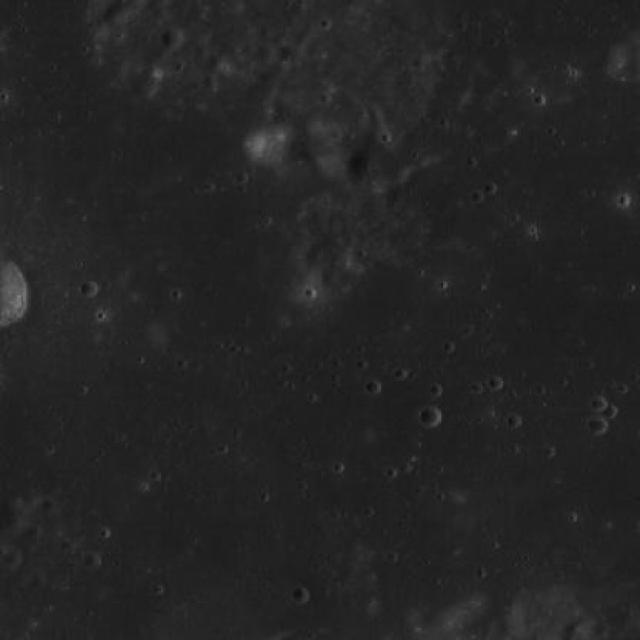crater: (348, 146, 396, 192), (130, 68, 161, 99), (104, 0, 132, 25), (566, 617, 592, 640), (160, 26, 183, 48), (280, 42, 303, 64), (418, 405, 440, 427), (56, 532, 78, 554), (206, 53, 227, 73), (256, 44, 276, 64), (588, 416, 608, 436), (80, 280, 98, 298), (3, 550, 20, 568), (592, 622, 610, 638), (292, 586, 310, 602), (84, 554, 100, 570), (31, 569, 47, 585), (225, 0, 242, 12)
